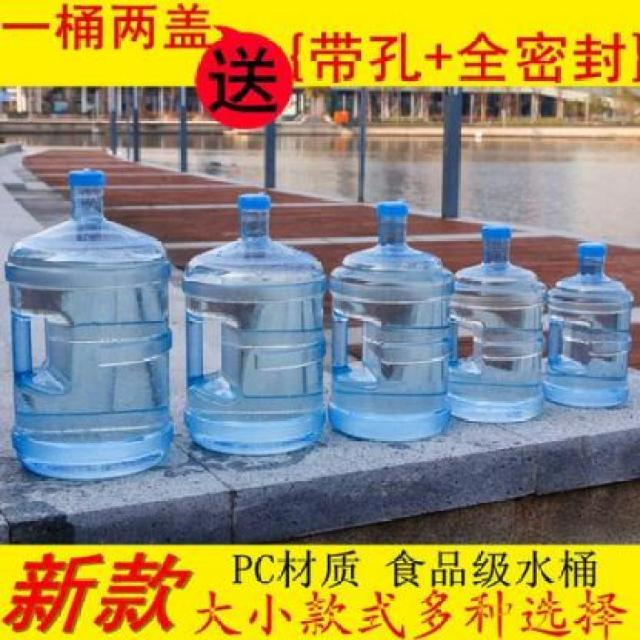coolerbottle: (3, 163, 180, 482), (182, 192, 332, 460), (329, 199, 459, 443), (446, 223, 552, 426), (544, 237, 638, 412)
